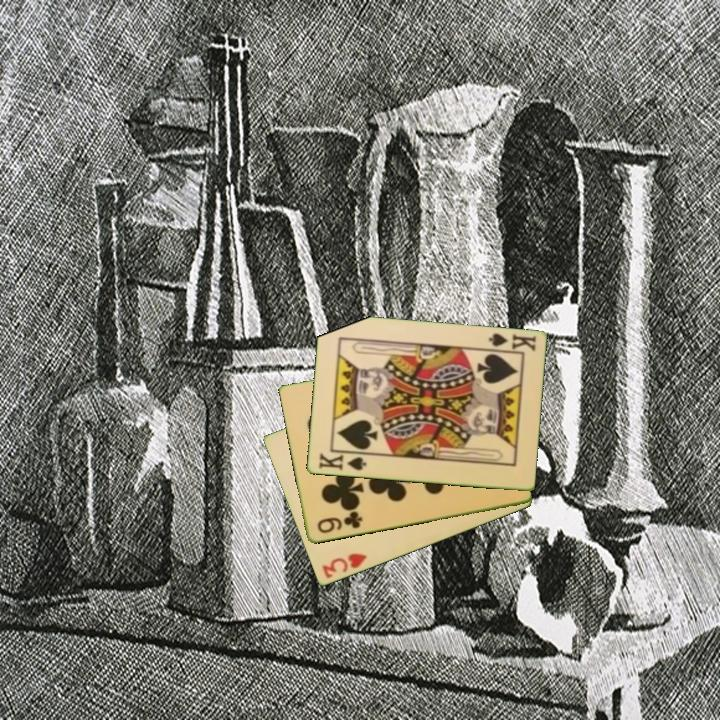3h: (318, 550, 370, 582)
9c: (314, 509, 365, 536)
Ks: (483, 330, 539, 355), (315, 449, 370, 474)
